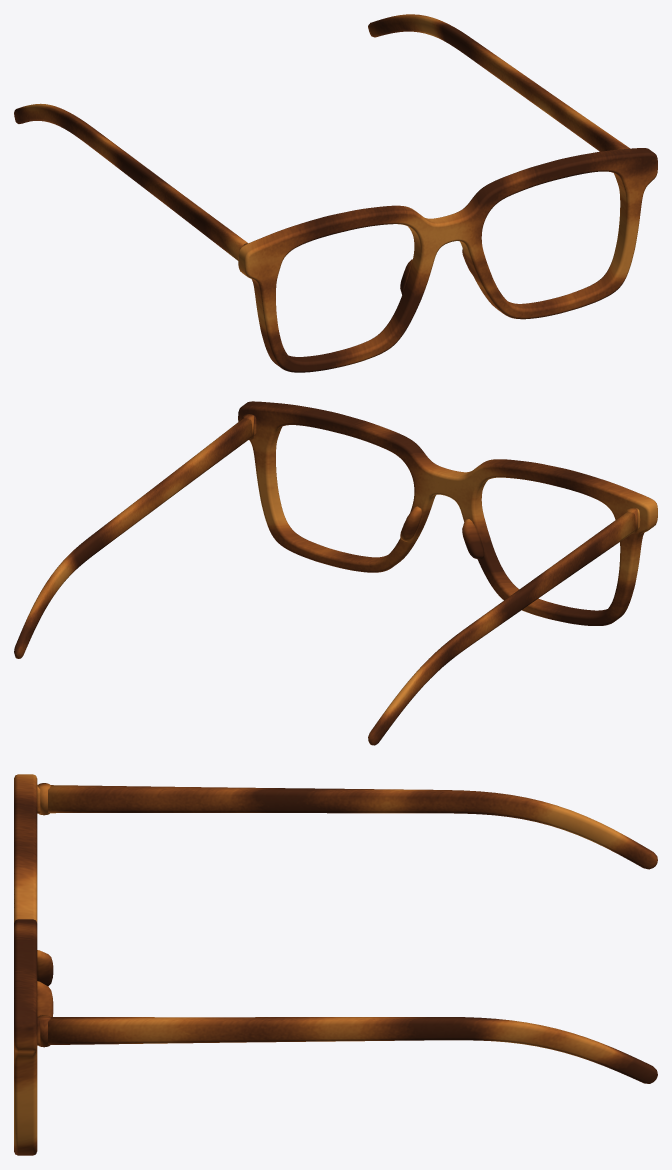
The model's file is SquareTortoise.glb.
The picture shows the model from 3 angles, top to bottom: view 1: azimuth 30°, elevation 25°; view 2: azimuth 150°, elevation 25°; view 3: azimuth 270°, elevation 25°; orthographic projection. The views are drawn at different scales.
Parts seen in each view (by area): view 1: Frame_Front, Temple_Left, Temple_Right; view 2: Frame_Front, Temple_Right, Temple_Left; view 3: Temple_Right, Temple_Left, Frame_Front.
Boxes of the visible parts, x1,y1,x2,y2 form: Frame_Front: [238, 148, 657, 372]; Temple_Left: [368, 14, 629, 151]; Temple_Right: [14, 103, 248, 260]; Frame_Front: [238, 401, 657, 625]; Temple_Right: [368, 507, 637, 745]; Temple_Left: [14, 414, 253, 658]; Temple_Right: [37, 783, 657, 869]; Temple_Left: [37, 1015, 657, 1083]; Frame_Front: [14, 774, 53, 1155].
Bounding box in the file's own units: 140 × 47.9 × 153.
Materials: 1 (1 with a texture image).
